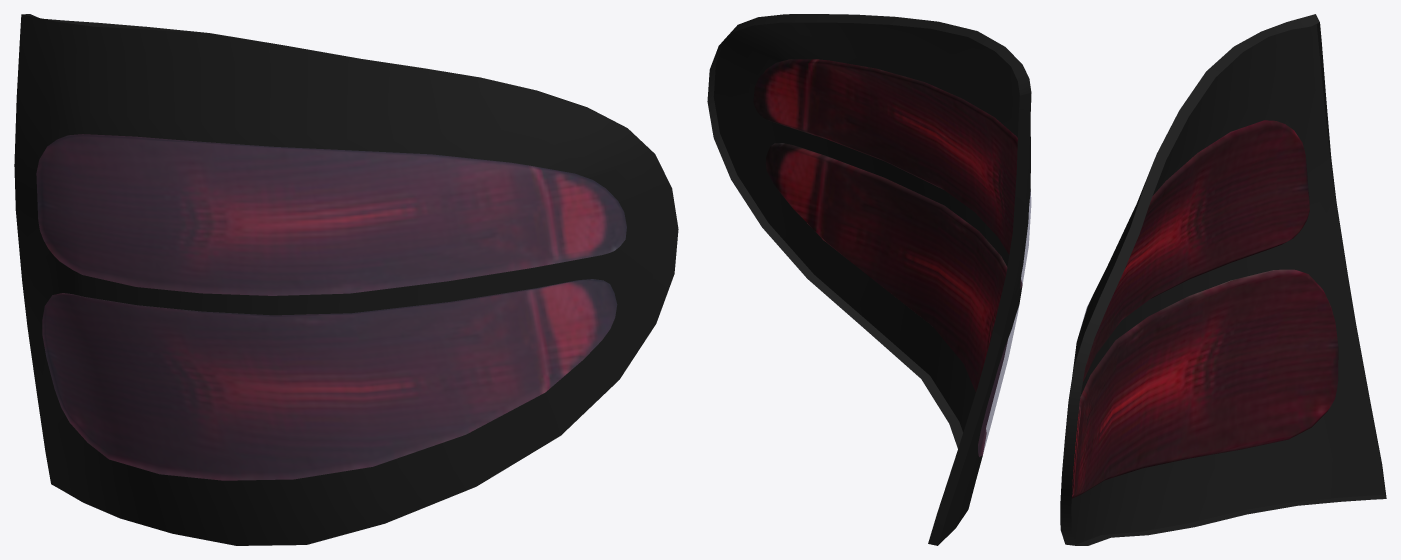
3 renders of one model, left to right at view 1: azimuth 30°, elevation 25°; view 2: azimuth 150°, elevation 25°; view 3: azimuth 270°, elevation 25°, orthographic. The views are drawn at different scales.
Parts seen in each view (by area): view 1: P353_20_541C_R_P353_20_541C_R_4_N, P353_20_541C_R_P353_20_541C_R_1_D, P353_20_541C_R_3_DTaSI_P353_20_541C_R, P353_20_541C_R_P353_20_541C_R_2_DTaSI; view 2: P353_20_541C_R_P353_20_541C_R_1_D, P353_20_541C_R_P353_20_541C_R_4_N, P353_20_541C_R_3_DTaSI_P353_20_541C_R; view 3: P353_20_541C_R_P353_20_541C_R_4_N, P353_20_541C_R_P353_20_541C_R_1_D.
Part boxes in pixels (bbox=[...]): P353_20_541C_R_P353_20_541C_R_4_N: bbox=[36, 134, 626, 480]; P353_20_541C_R_P353_20_541C_R_1_D: bbox=[14, 14, 678, 545]; P353_20_541C_R_3_DTaSI_P353_20_541C_R: bbox=[42, 279, 616, 480]; P353_20_541C_R_P353_20_541C_R_2_DTaSI: bbox=[36, 134, 626, 295]; P353_20_541C_R_P353_20_541C_R_1_D: bbox=[707, 14, 1031, 545]; P353_20_541C_R_P353_20_541C_R_4_N: bbox=[753, 59, 1022, 456]; P353_20_541C_R_3_DTaSI_P353_20_541C_R: bbox=[978, 307, 1018, 456]; P353_20_541C_R_P353_20_541C_R_4_N: bbox=[1071, 120, 1338, 498]; P353_20_541C_R_P353_20_541C_R_1_D: bbox=[1060, 14, 1386, 545].
Bounding box in the file's own units: 23.07 × 22.11 × 14.46.
